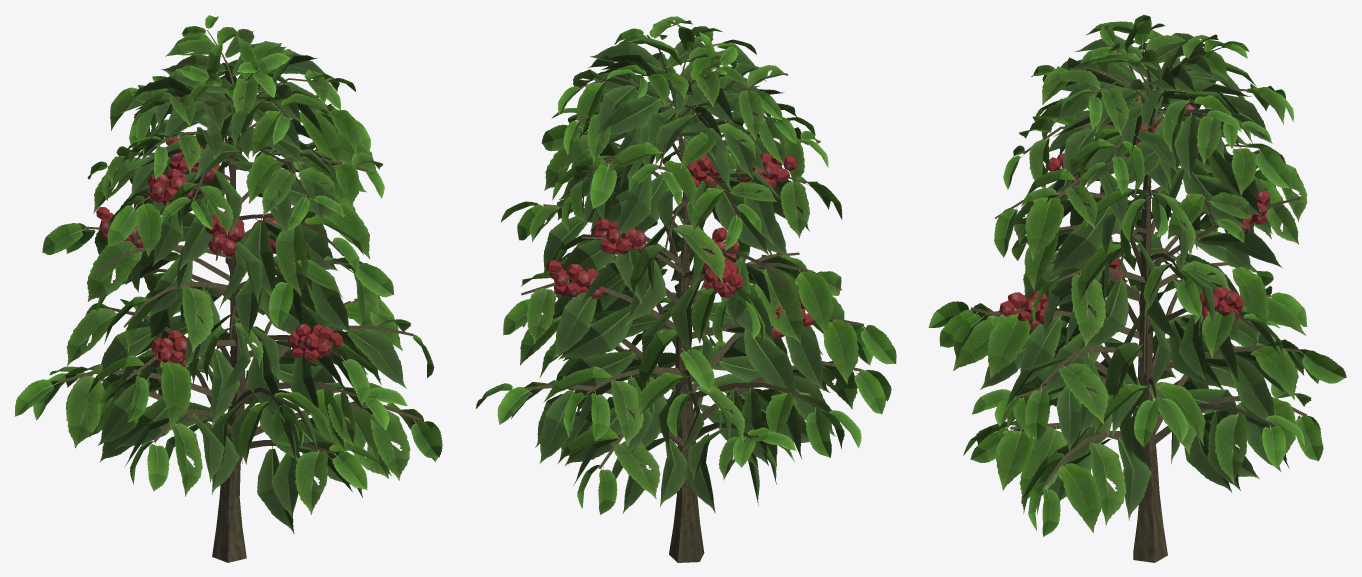
Rendered from P_Herb_00336.obj.
3 views of the same model, side by side, from view 1: azimuth 30°, elevation 25°; view 2: azimuth 150°, elevation 25°; view 3: azimuth 270°, elevation 25° (orthographic). The views are drawn at different scales.
Bounding box in the file's own units: 0.9662 × 1.33 × 0.939.
Materials: 1 (1 with a texture image).
